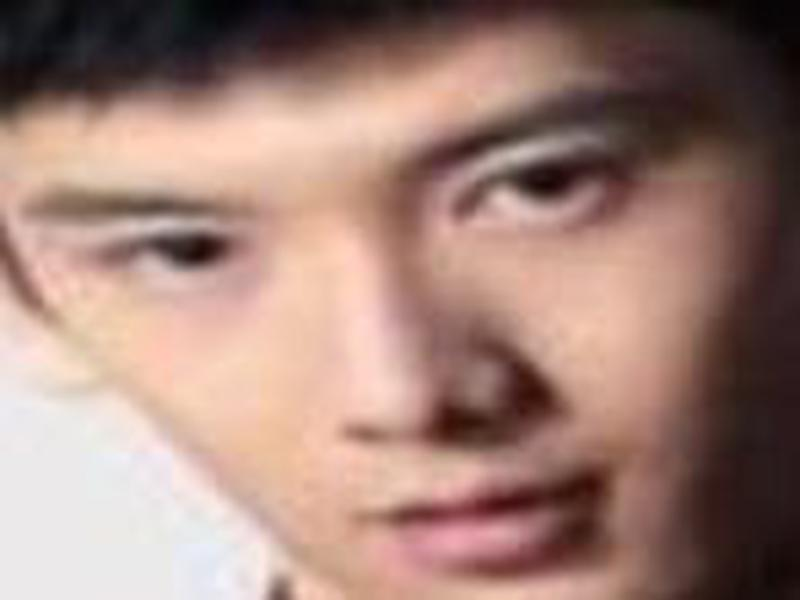without_mask: (6, 53, 763, 585)
